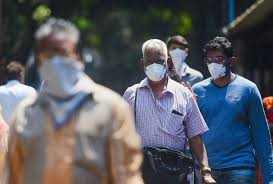mask: (38, 33, 80, 91), (205, 47, 233, 79), (144, 44, 167, 80), (168, 40, 187, 63)
